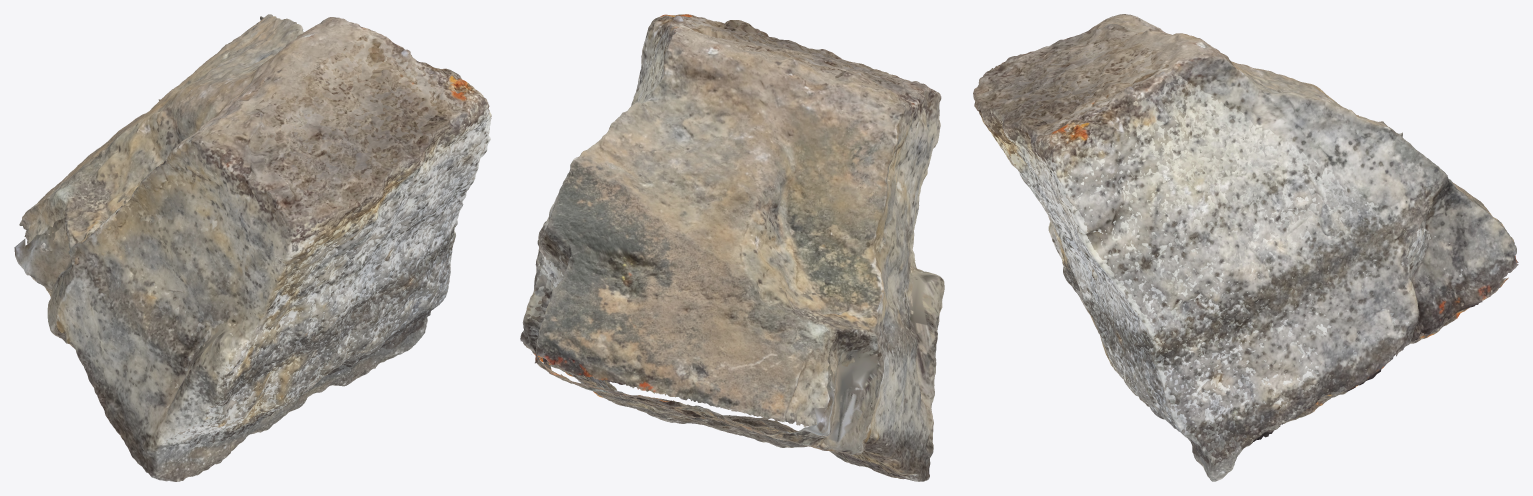
Rendered from stone.glb.
The picture shows the model from 3 angles, left to right: view 1: azimuth 30°, elevation 25°; view 2: azimuth 150°, elevation 25°; view 3: azimuth 270°, elevation 25°; orthographic projection. The views are drawn at different scales.
Parts seen in each view (by area): view 1: Object_8, Object_5, Object_4; view 2: Object_4, Object_5, Object_8; view 3: Object_4, Object_8, Object_5.
Part boxes in pixels (x1=…): Object_8: x1=14, y1=35, x2=491, y2=481; Object_5: x1=19, y1=17, x2=477, y2=450; Object_4: x1=19, y1=14, x2=491, y2=407; Object_4: x1=520, y1=14, x2=883, y2=424; Object_5: x1=602, y1=14, x2=940, y2=426; Object_8: x1=523, y1=14, x2=944, y2=481; Object_4: x1=1007, y1=23, x2=1518, y2=464; Object_8: x1=973, y1=24, x2=1508, y2=481; Object_5: x1=973, y1=14, x2=1358, y2=465.
Size of the model in its own units: 4.01 by 4.58 by 5.2.
2 materials, 2 textured.
